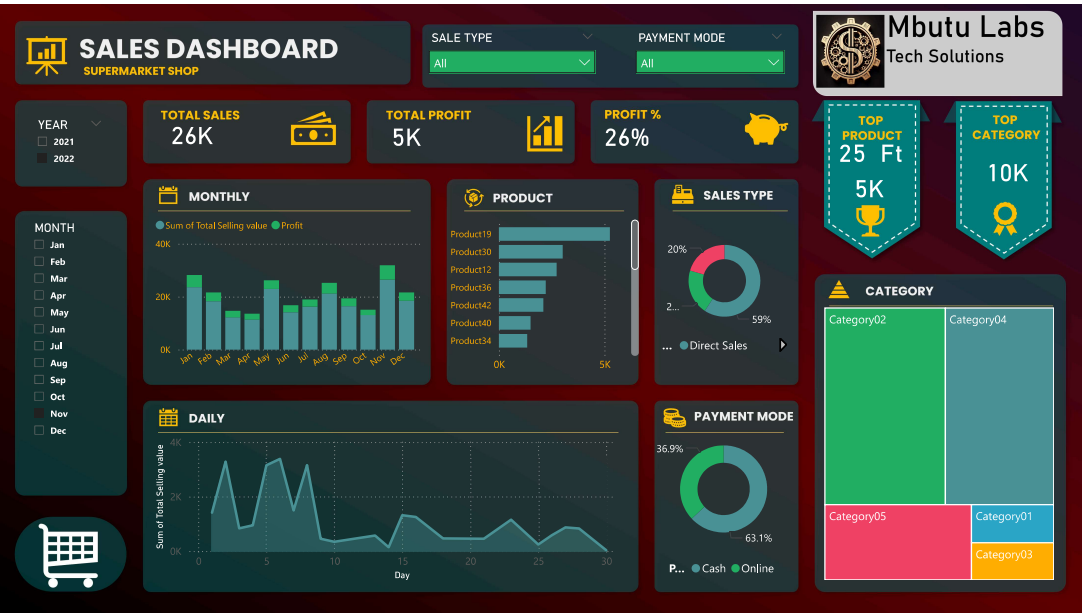

This screenshot's page, from the dashboard's own definition file:
{"tool":"powerbi","page":{"name":"Page 1","canvas":[1280,720],"ordinal":0},"visuals":[{"type":"slicer","fields":{"Values":["InputData.Year"]},"box":[32.1,128.6,101,77.1],"z":0},{"type":"slicer","fields":{"Values":["InputData.SALE TYPE"]},"box":[497.7,25.7,217.6,67.9],"z":1000},{"type":"slicer","fields":{"Values":["InputData.PAYMENT MODE"]},"box":[742.8,25.7,196.5,67.9],"z":2000},{"type":"slicer","fields":{"Values":["InputData.Month Name"]},"box":[28.5,250.7,104.7,323.2],"z":3000},{"type":"cardVisual","fields":{"Data":["Sum(InputData.Total Selling value)"]},"box":[141.4,112.9,172.6,72.5],"z":4000},{"type":"cardVisual","fields":{"Data":["InputData.Profit"]},"box":[409.5,114.8,142.3,75.3],"z":5000},{"type":"cardVisual","fields":{"Data":["Sum(InputData.Total Selling value)"]},"box":[1106.5,146,173.5,96.4],"z":6000},{"type":"cardVisual","fields":{"Data":["InputData.Profit %"]},"box":[680.4,112.9,124.9,79],"z":7000},{"type":"cardVisual","fields":{"Data":["Sum(InputData.QUANTITY)"]},"box":[963.2,134.1,92.7,72.5],"z":8000},{"type":"cardVisual","fields":{"Data":["Min(InputData.MasterData.UOM)"]},"box":[999,134.1,113.9,66.1],"z":9000},{"type":"cardVisual","fields":{"Data":["Sum(InputData.Total Selling value)"]},"box":[981.6,176.3,94.6,74.4],"z":10000},{"type":"columnChart","fields":{"Category":["InputData.Month Name"],"Y":["Sum(InputData.Total Selling value)","InputData.Profit"]},"box":[179.1,242.4,326,197.4],"z":11000},{"type":"clusteredBarChart","fields":{"Y":["Sum(InputData.Total Selling value)"],"Category":["InputData.MasterData.PRODUCT"]},"box":[524.3,242.4,236.9,201.1],"z":12000},{"type":"areaChart","fields":{"Y":["Sum(InputData.Total Selling value)"],"Category":["InputData.Day"]},"box":[179.1,504.1,553.7,181.8],"z":13000},{"type":"donutChart","fields":{"Y":["Sum(InputData.Total Selling value)"],"Category":["InputData.SALE TYPE"]},"box":[778.7,260.8,157.9,161.6],"z":14000},{"type":"donutChart","fields":{"Y":["Sum(InputData.Total Selling value)"],"Series":["InputData.PAYMENT MODE"]},"box":[769.5,490.3,175.4,195.6],"z":15000},{"type":"treemap","fields":{"Group":["InputData.MasterData.CATEGORY"],"Values":["Sum(InputData.Total Selling value)"]},"box":[972.4,354.4,281,331.5],"z":16000}]}

Visuals, with their boxes in screenshot pixels (x1, y1, x2, y2), scaled from the page's 1280x720 canvas onto the 1083x614 screenshot:
slicer - InputData.Year: <box>27,110,113,175</box>
slicer - InputData.SALE TYPE: <box>421,22,605,80</box>
slicer - InputData.PAYMENT MODE: <box>628,22,795,80</box>
slicer - InputData.Month Name: <box>24,214,113,489</box>
cardVisual - Sum(InputData.Total Selling value): <box>120,96,266,158</box>
cardVisual - InputData.Profit: <box>346,98,467,162</box>
cardVisual - Sum(InputData.Total Selling value): <box>936,125,1082,207</box>
cardVisual - InputData.Profit %: <box>576,96,681,164</box>
cardVisual - Sum(InputData.QUANTITY): <box>815,114,893,176</box>
cardVisual - Min(InputData.MasterData.UOM): <box>845,114,942,171</box>
cardVisual - Sum(InputData.Total Selling value): <box>831,150,911,214</box>
columnChart - InputData.Month Name x Sum(InputData.Total Selling value): <box>152,207,427,375</box>
clusteredBarChart - Sum(InputData.Total Selling value) x InputData.MasterData.PRODUCT: <box>444,207,644,378</box>
areaChart - Sum(InputData.Total Selling value) x InputData.Day: <box>152,430,620,585</box>
donutChart - Sum(InputData.Total Selling value) x InputData.SALE TYPE: <box>659,222,792,360</box>
donutChart - Sum(InputData.Total Selling value) x InputData.PAYMENT MODE: <box>651,418,799,585</box>
treemap - InputData.MasterData.CATEGORY x Sum(InputData.Total Selling value): <box>823,302,1060,585</box>
